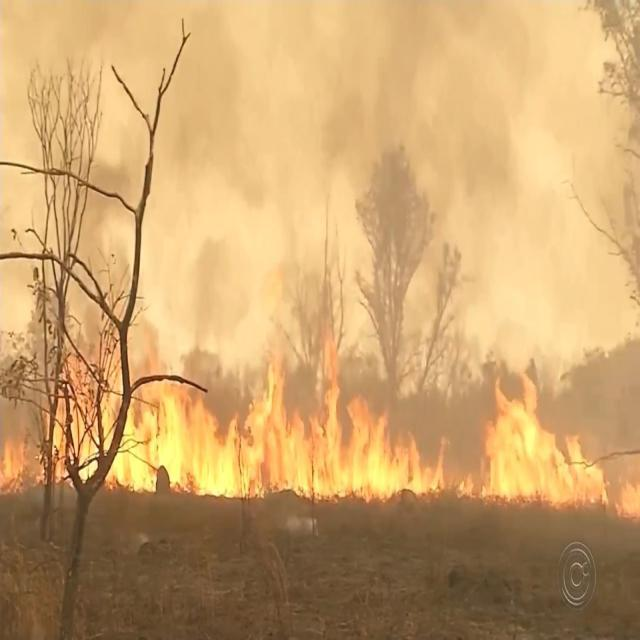Fire: (242, 344, 448, 496), (78, 358, 243, 499), (454, 362, 606, 502), (0, 376, 70, 490), (614, 464, 640, 521)
Smoke: (312, 0, 544, 214), (165, 0, 265, 205), (0, 0, 157, 100), (565, 102, 640, 287), (68, 153, 134, 361), (173, 238, 247, 346), (406, 236, 444, 334)
